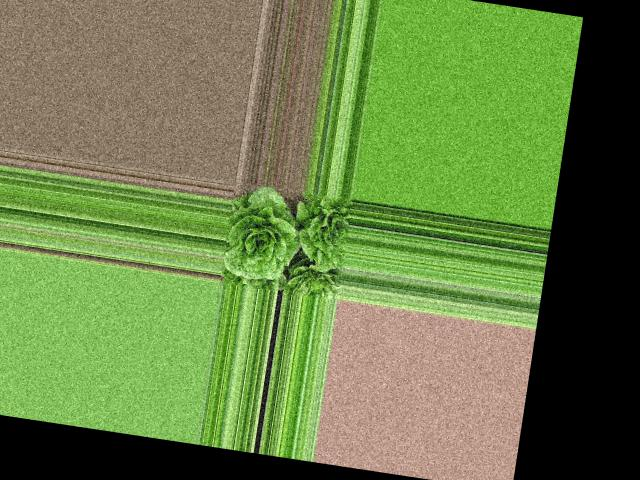lettuce: (294, 194, 354, 275)
